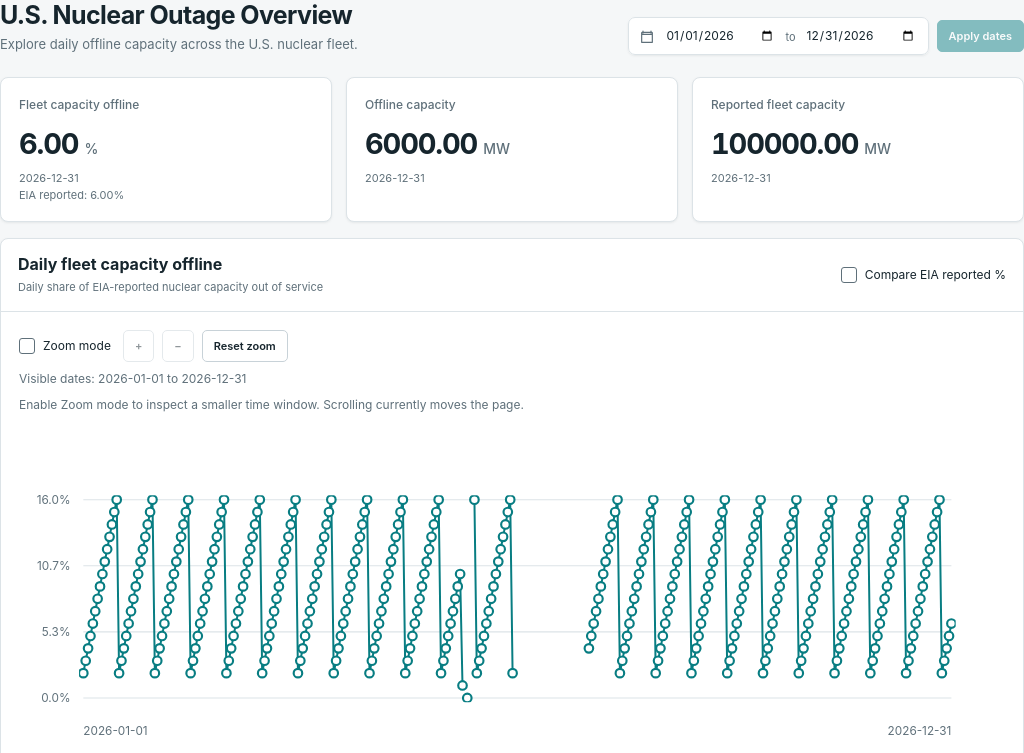
Test: Overview feature dimming (AC5) › withholds zoom inputs on retained long data and cannot revive it after logout
This screenshot has width=1024, height=753.
Click the checkbox labelled "Zoom mode" at (27, 346), box [19,338,35,354]
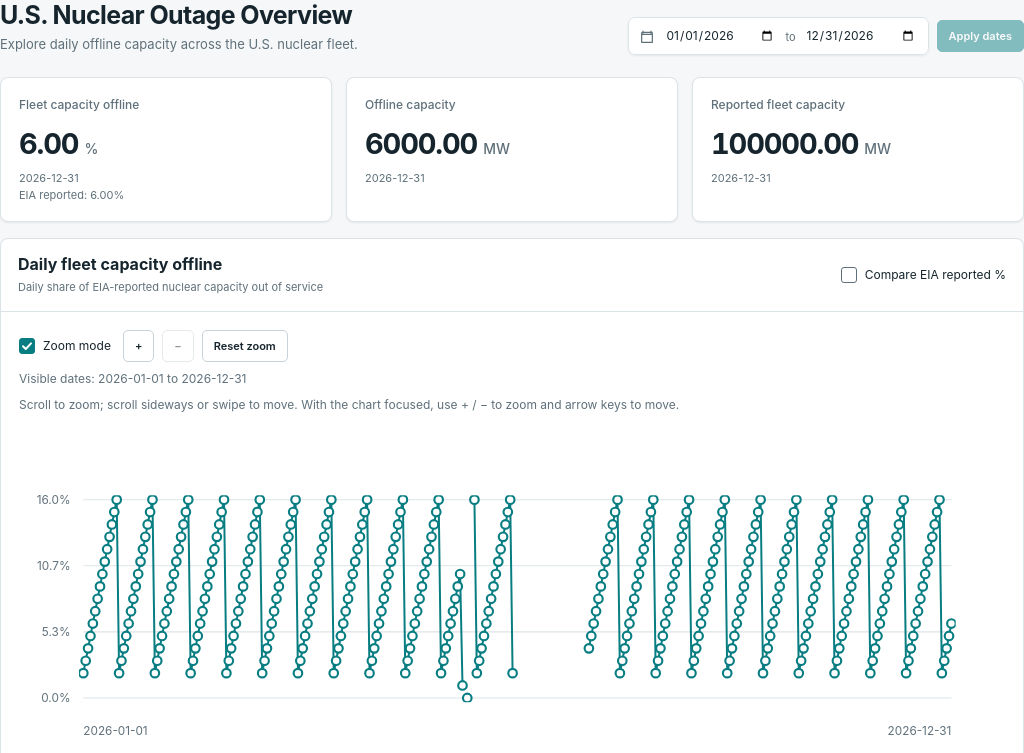
Click the button named "Zoom in" at (139, 346), box [123,330,154,362]
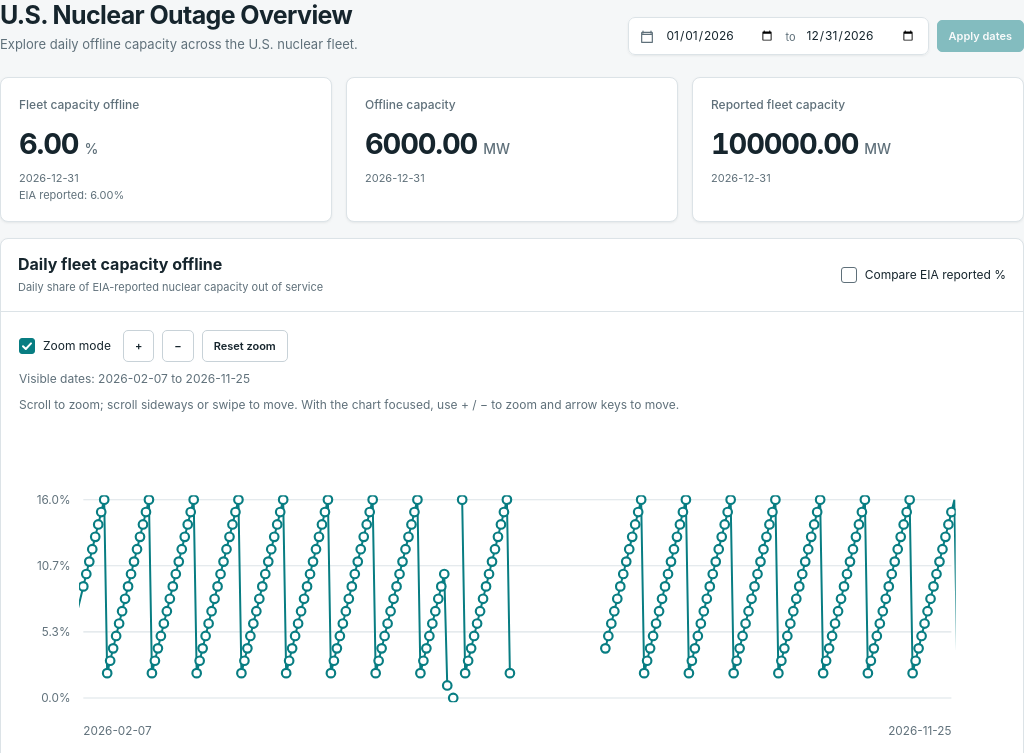
Type "2026-12-15" into the 2nd date field named "End date" at (860, 36), box [804,25,918,47]
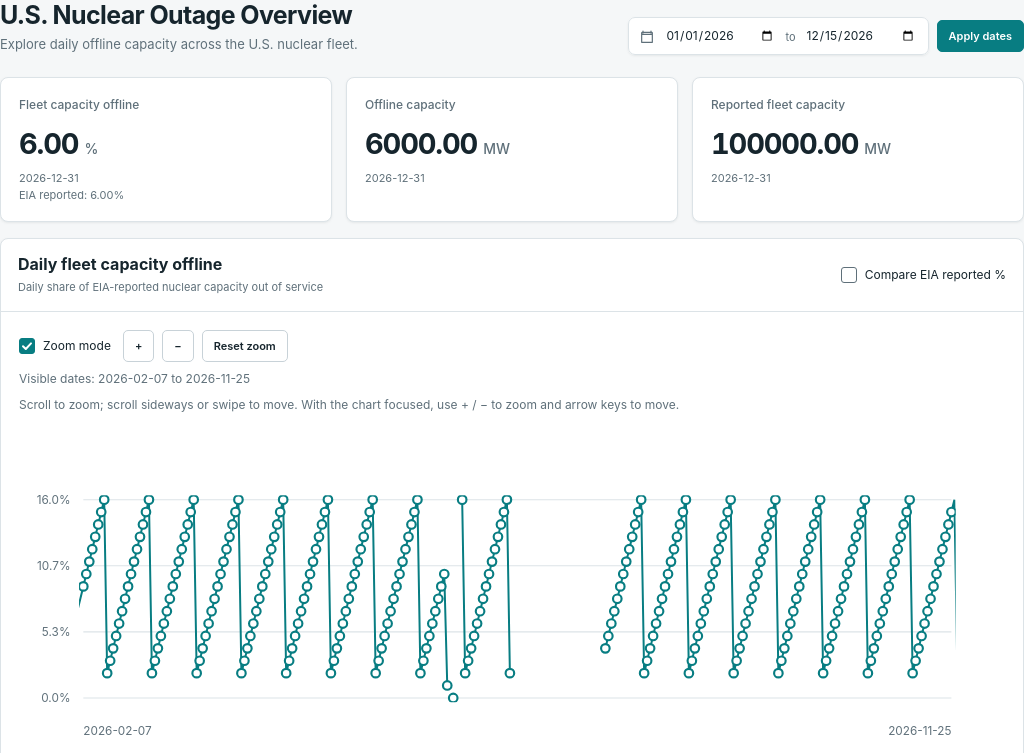
Click the button "Apply dates" at (980, 36), box [936,20,1023,52]
(page scrolled)
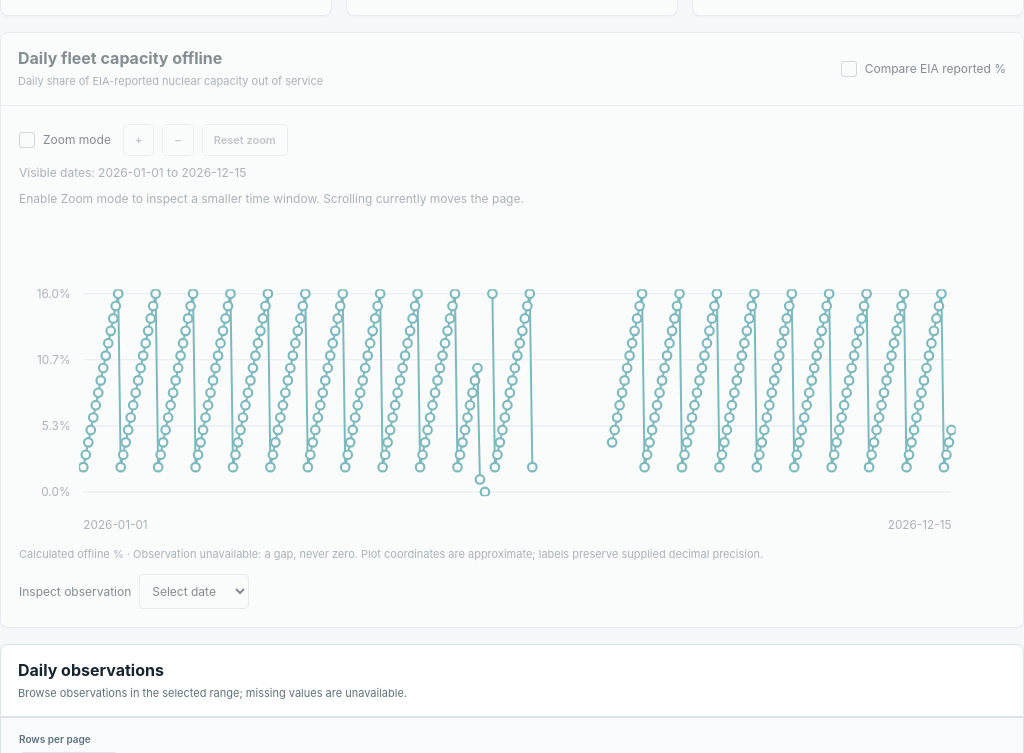
Check: the element named "Chart zoom controls" is shown, box [19,124,524,206]
Check: the checkbox labelled "Zoom mode" is disabled, box [19,132,35,148]
Check: the button "Reset zoom" is disabled, box [202,124,288,156]
